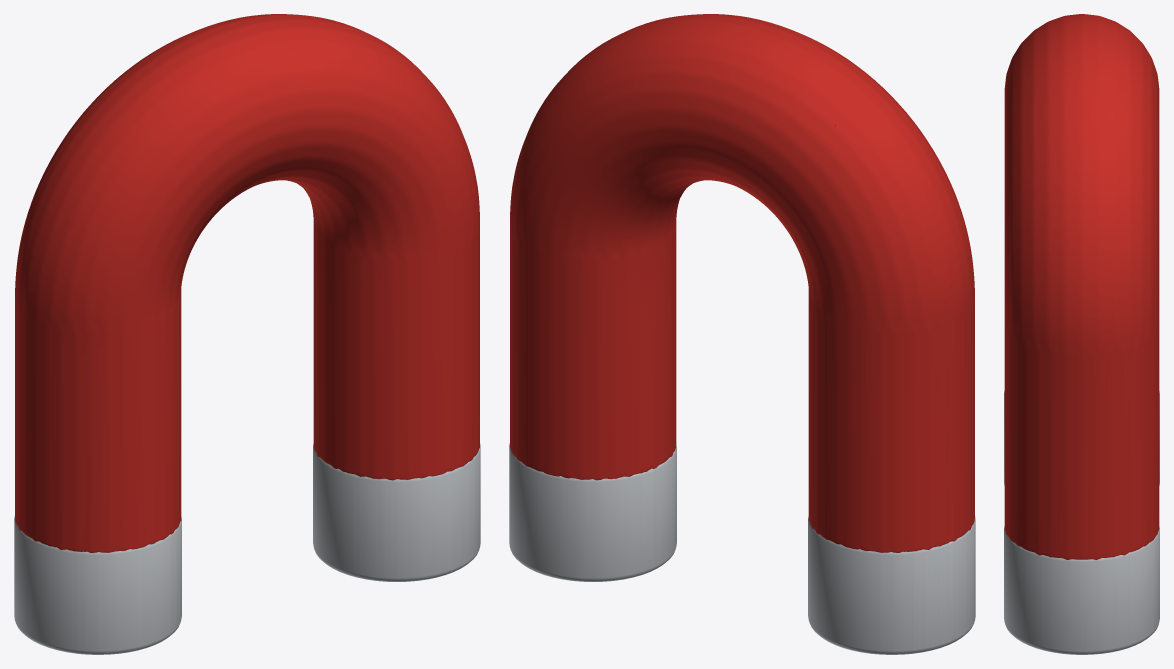
Rendered from piece_magnet.fbx.
3 renders of one model, left to right at view 1: azimuth 30°, elevation 25°; view 2: azimuth 150°, elevation 25°; view 3: azimuth 270°, elevation 25°, orthographic. The views are drawn at different scales.
Parts seen in each view (by area): view 1: piece_magnet; view 2: piece_magnet; view 3: piece_magnet.
Boxes of the visible parts, x1=… form: piece_magnet: x1=14, y1=14, x2=480, y2=654; piece_magnet: x1=509, y1=14, x2=975, y2=654; piece_magnet: x1=1004, y1=14, x2=1159, y2=654.
Size of the model in its own units: 0.1843 by 0.222 by 0.0603.
